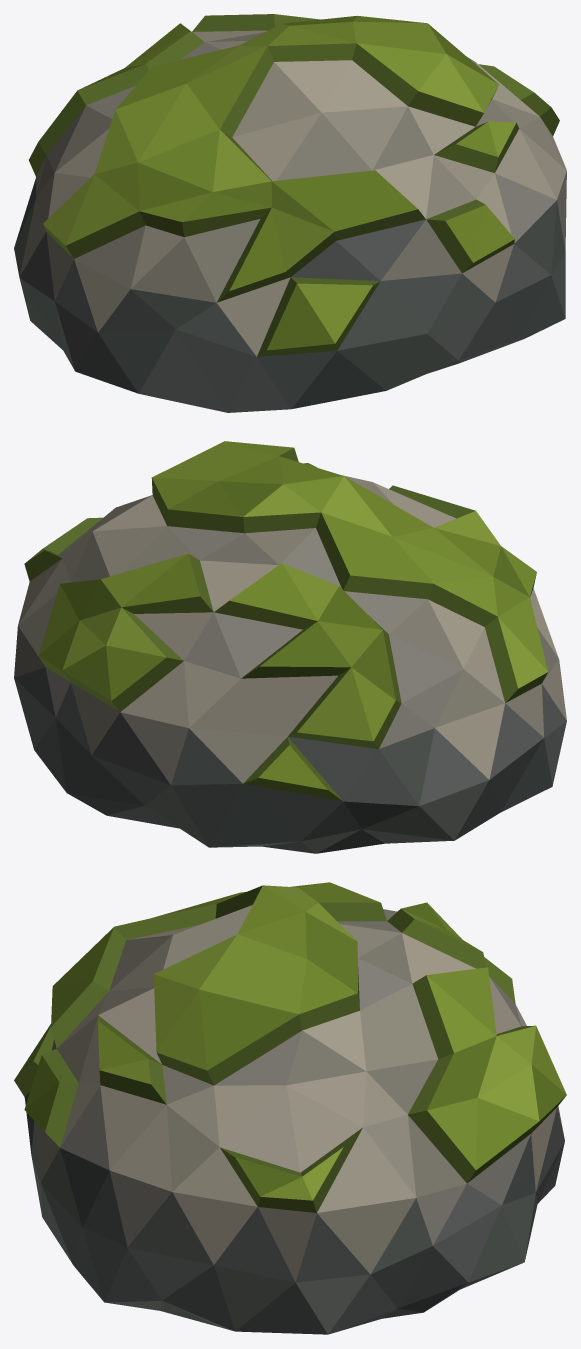
The model's file is river_boulder.glb.
3 renders of one model, top to bottom at view 1: azimuth 30°, elevation 25°; view 2: azimuth 150°, elevation 25°; view 3: azimuth 270°, elevation 25°, orthographic. The views are drawn at different scales.
Visible parts, largest first — view 1: river_boulder; view 2: river_boulder; view 3: river_boulder.
Part boxes in pixels (left/top/right/bottom): river_boulder: left=14, top=14, right=566, bottom=412; river_boulder: left=14, top=441, right=566, bottom=853; river_boulder: left=14, top=882, right=566, bottom=1334.
Bounding box in the file's own units: 2.57 × 1.38 × 2.24.
